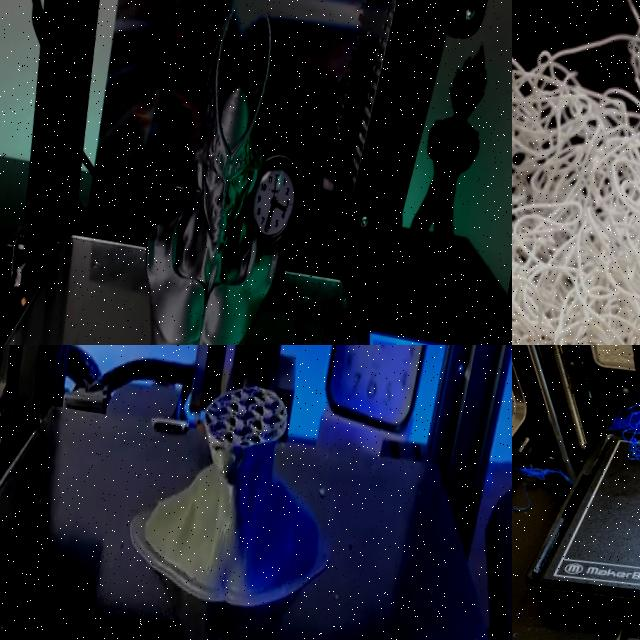spaghetti: (512, 0, 640, 345), (515, 465, 573, 491), (512, 484, 531, 514)
